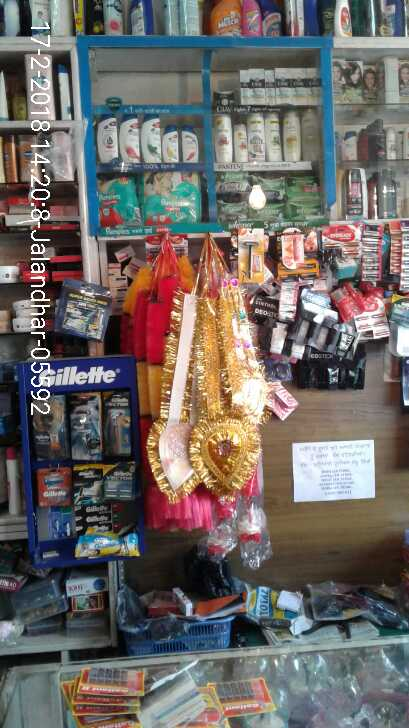gillete: (59, 285, 107, 337), (69, 395, 101, 462), (37, 393, 64, 466), (80, 530, 137, 560), (102, 463, 136, 501), (107, 396, 127, 453), (41, 470, 70, 505), (74, 470, 103, 500), (75, 505, 109, 527)
